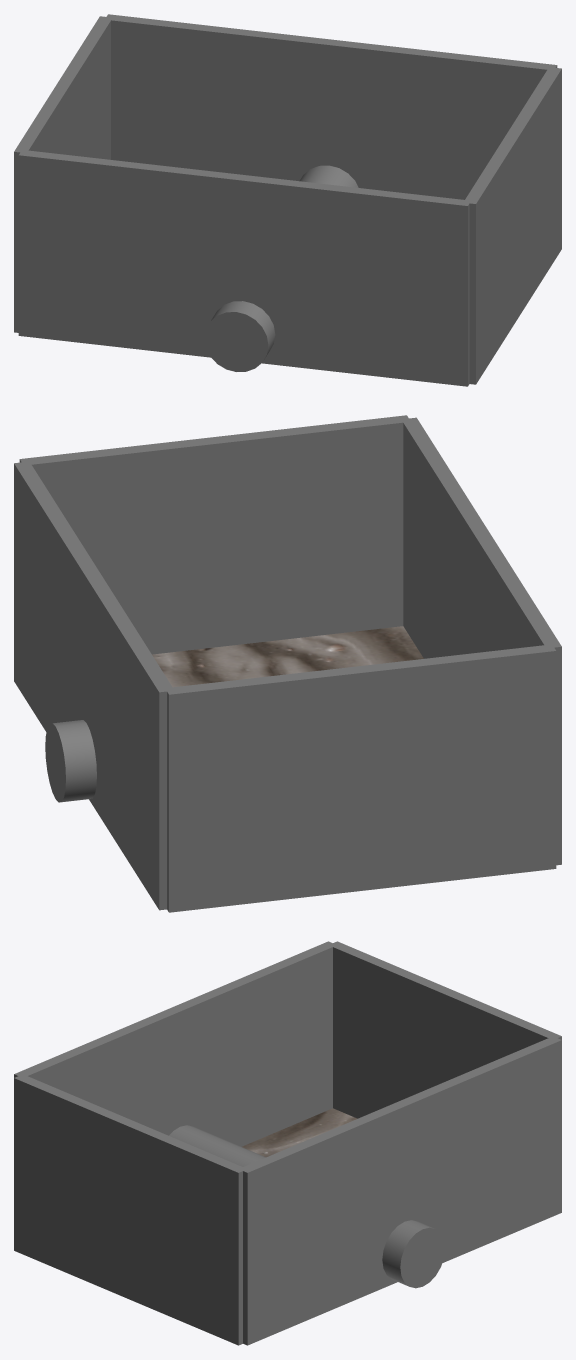
File: pecera2.obj
The picture shows the model from 3 angles, top to bottom: view 1: azimuth 30°, elevation 25°; view 2: azimuth 150°, elevation 25°; view 3: azimuth 270°, elevation 25°; orthographic projection. The views are drawn at different scales.
Visible parts, largest first — view 1: polySurface11; view 2: polySurface11; view 3: polySurface11.
Part boxes in pixels (x1,y1,x2,y2): polySurface11: (14,14,561,386); polySurface11: (14,415,561,912); polySurface11: (14,941,561,1345).
Size of the model in its own units: 8.63 by 3 by 8.63.
Materials: 2 (1 with a texture image).
